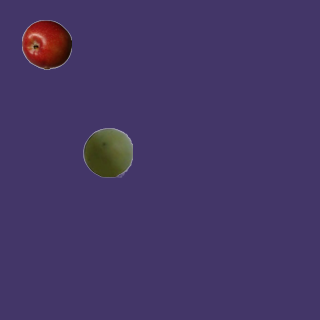Apple Braeburn: (21, 19, 71, 69)
Grape White 4: (82, 127, 132, 177)
